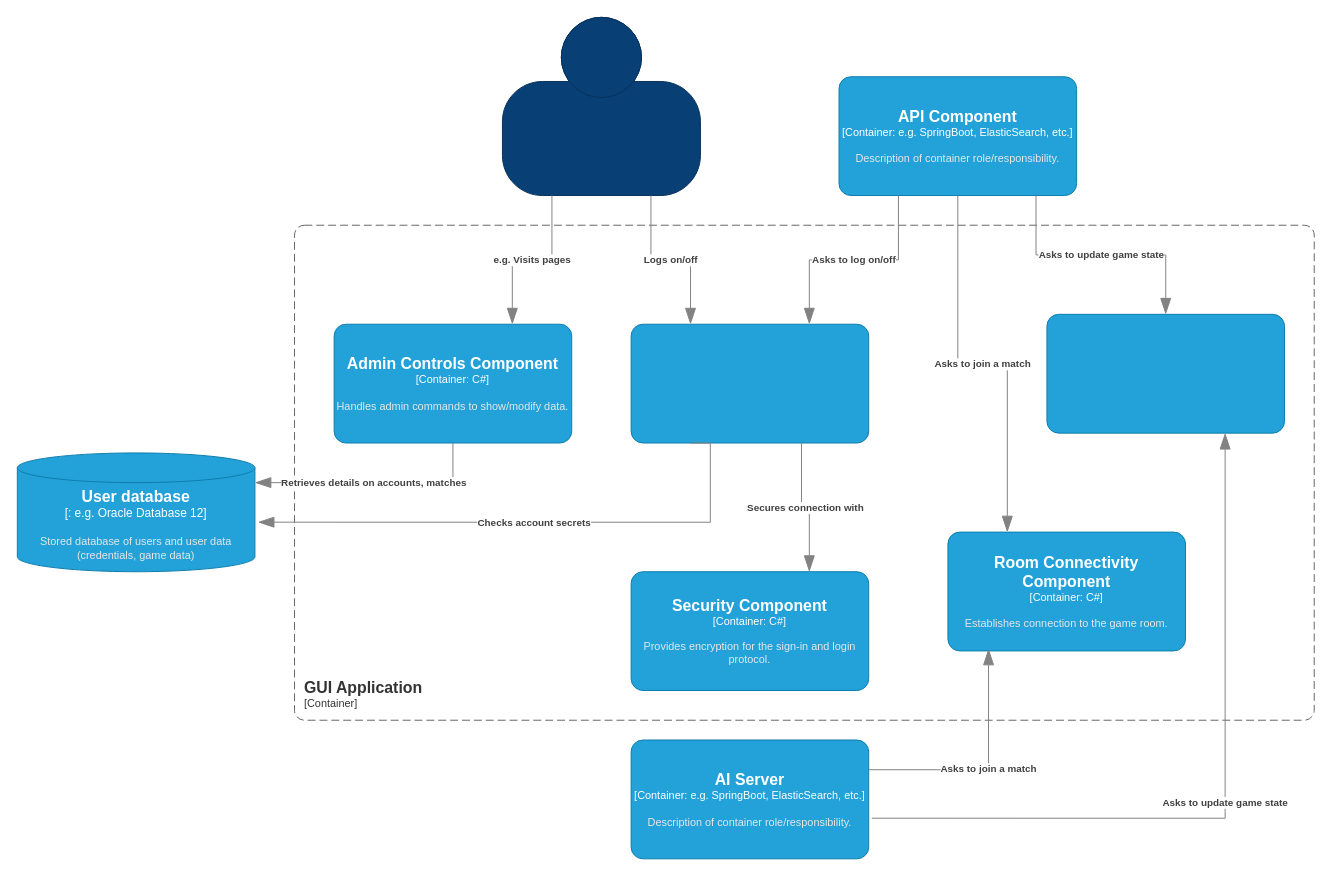
This 1332x876 diagram has some shape labels left out. The centre of each missing label's shape, as x and y in pixels:
Administrator [Person] Description of person.: the point at 600,106
Authetification Component [Container: C#] Handles the authentification protocol.: the point at 749,383
Game State Component [Container: C#] Updates and sends game state: the point at 1165,373
